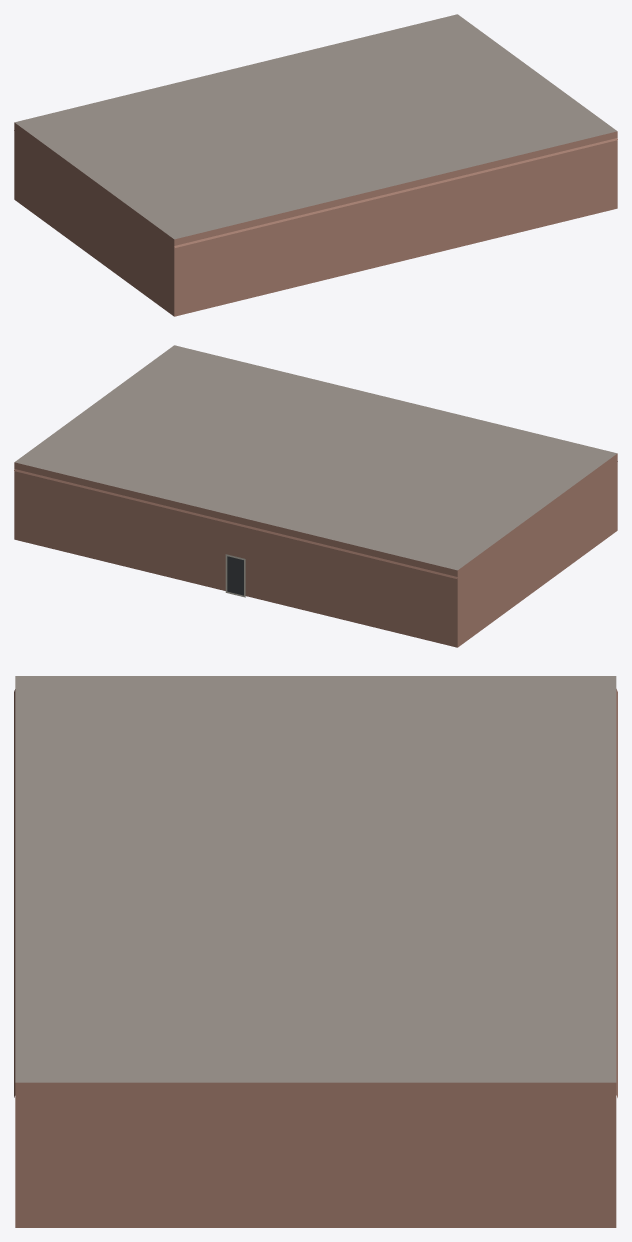
The model's file is lake_house_construction__shell_1835.glb.
3 renders of one model, top to bottom at view 1: azimuth 30°, elevation 25°; view 2: azimuth 150°, elevation 25°; view 3: azimuth 270°, elevation 25°, orthographic. The views are drawn at different scales.
Parts seen in each view (by area): view 1: lake_house_construction__shell_1835; view 2: lake_house_construction__shell_1835; view 3: lake_house_construction__shell_1835.
Boxes of the visible parts, x1=… form: lake_house_construction__shell_1835: x1=14, y1=14, x2=617, y2=316; lake_house_construction__shell_1835: x1=14, y1=345, x2=617, y2=647; lake_house_construction__shell_1835: x1=14, y1=676, x2=617, y2=1227.
Bounding box in the file's own units: 24 × 4.06 × 15.07.
